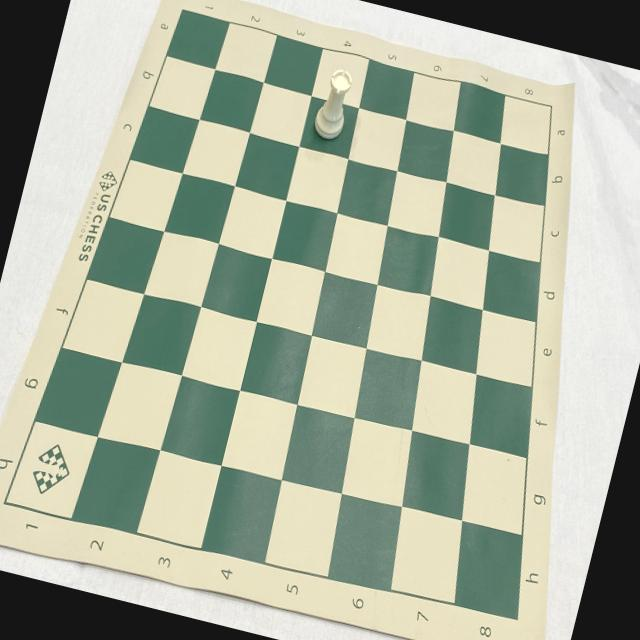white-rook: (310, 64, 358, 143)
